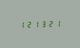one: (17, 20, 23, 28), (32, 20, 38, 28), (53, 19, 59, 27)
three: (39, 20, 45, 27)
two: (24, 20, 30, 28), (46, 19, 52, 27)
